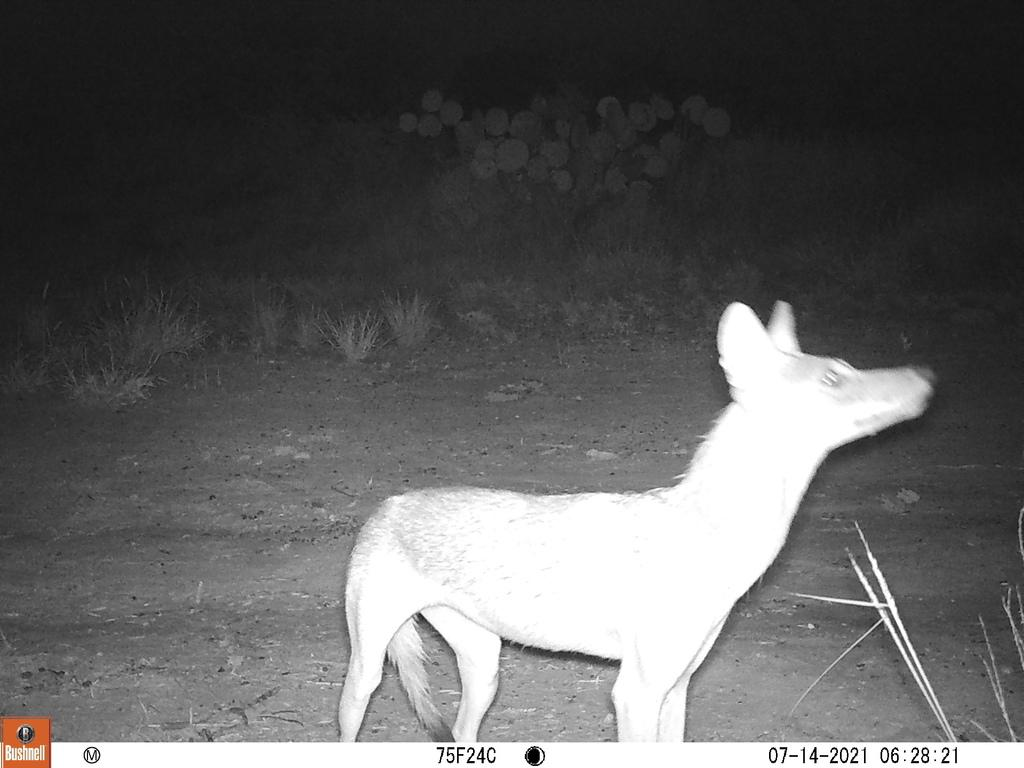Coyote: (332, 298, 938, 741)
